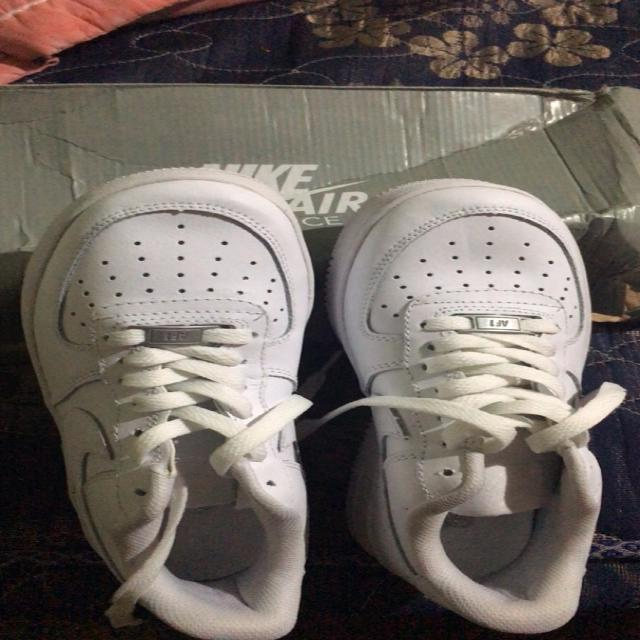nike fake air force: (2, 166, 334, 640), (327, 172, 640, 640)
